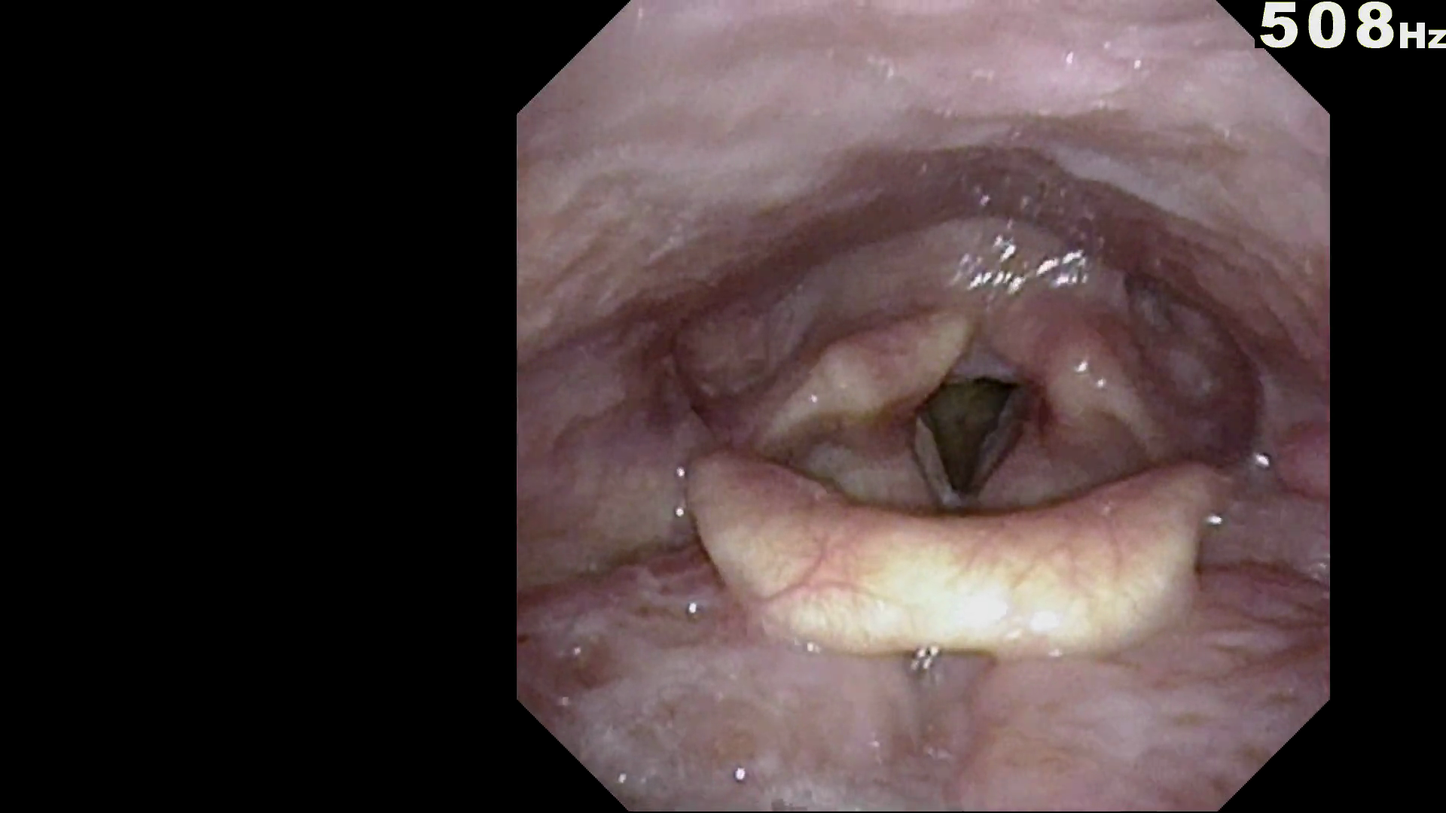epiglottis: (666, 408, 1243, 670)
trachea: (872, 333, 1064, 534)
